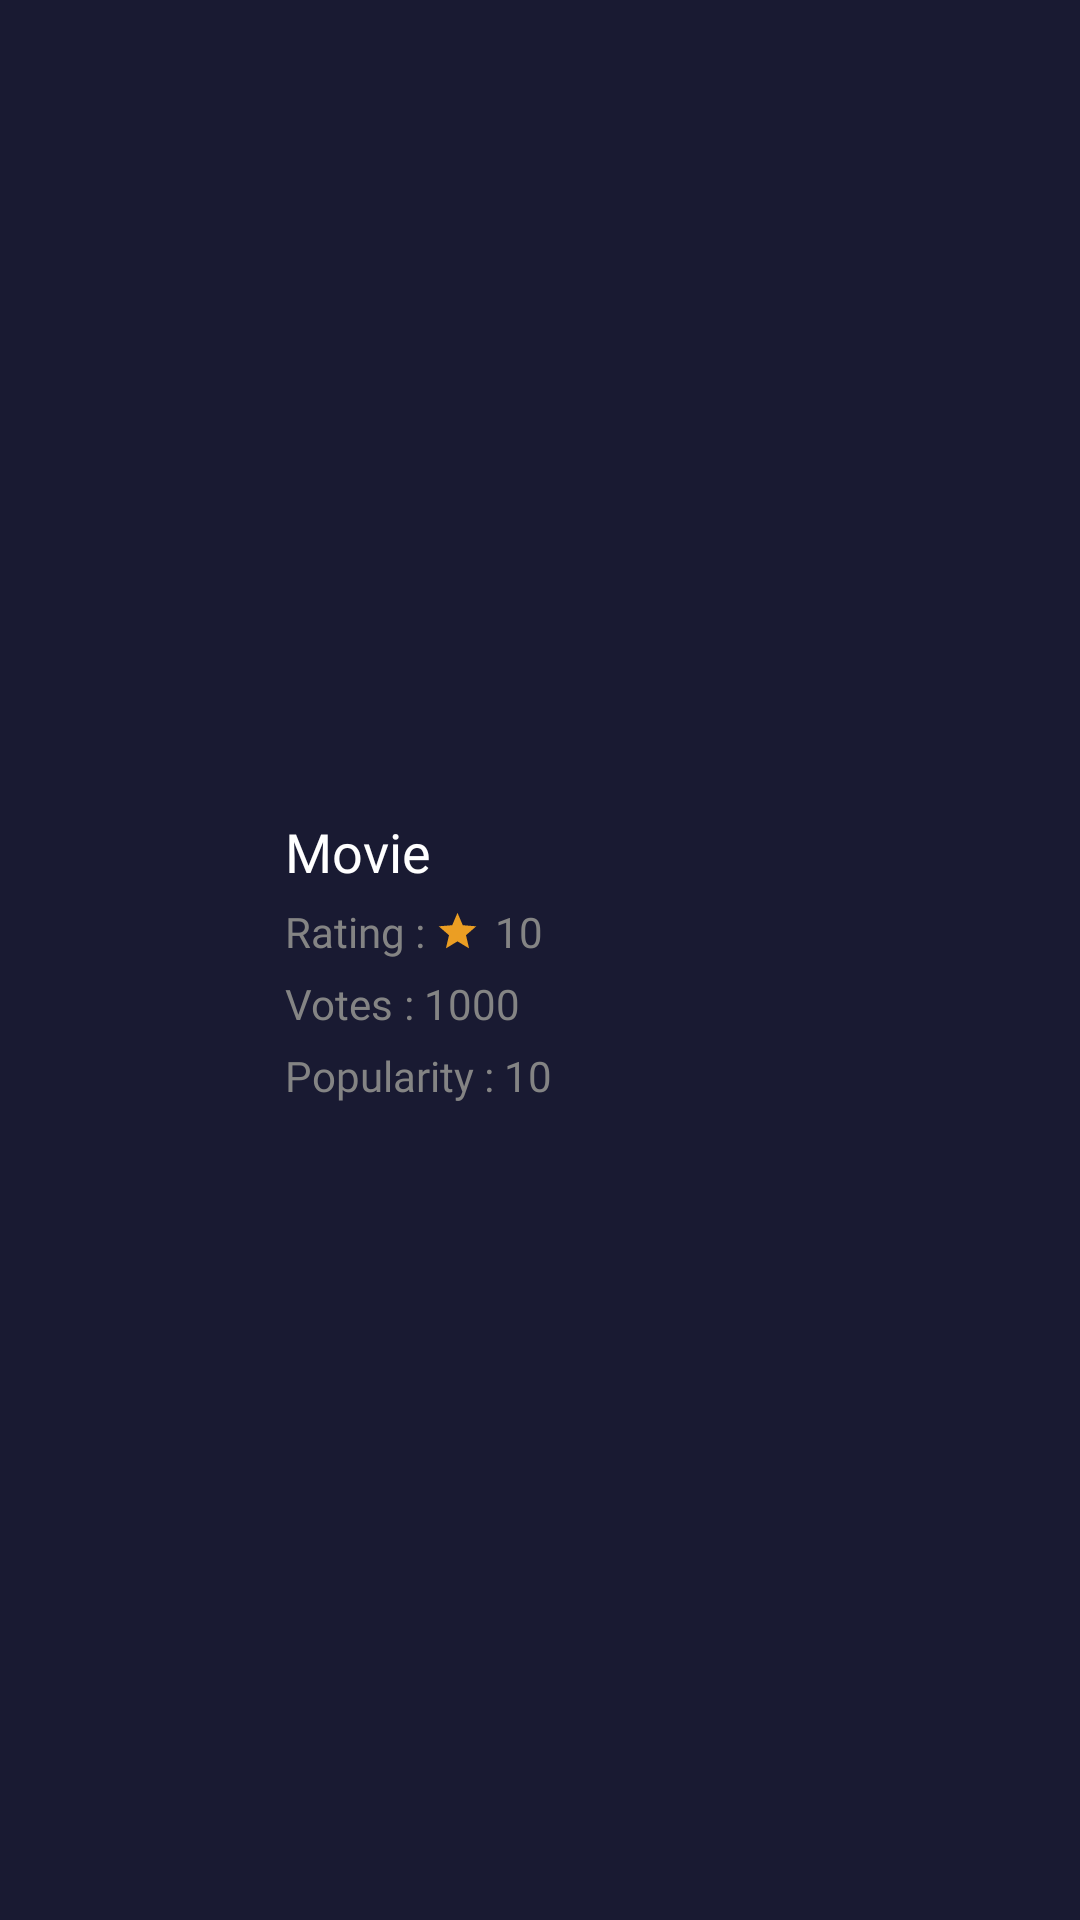

Icons on this 1080x1920 Android screen, each with the point to tap as [x,y]:
star: [457,930]
